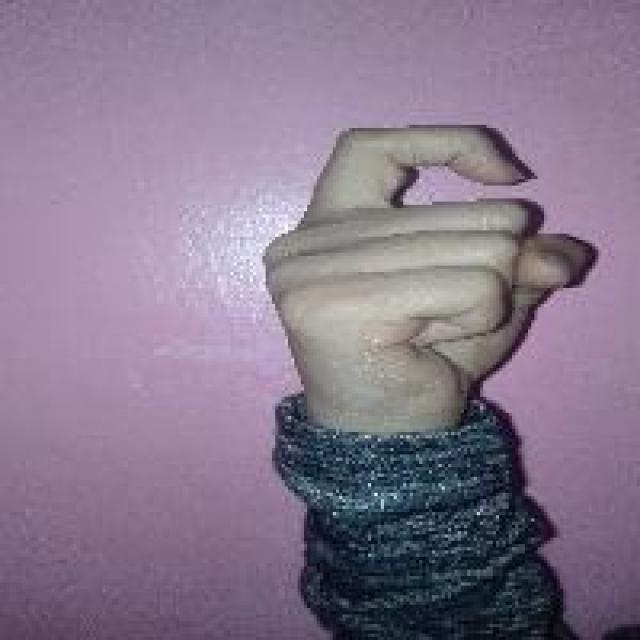X: (250, 112, 604, 435)
